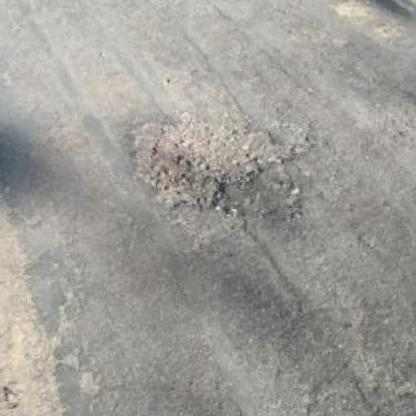pothole: (120, 108, 313, 214)
